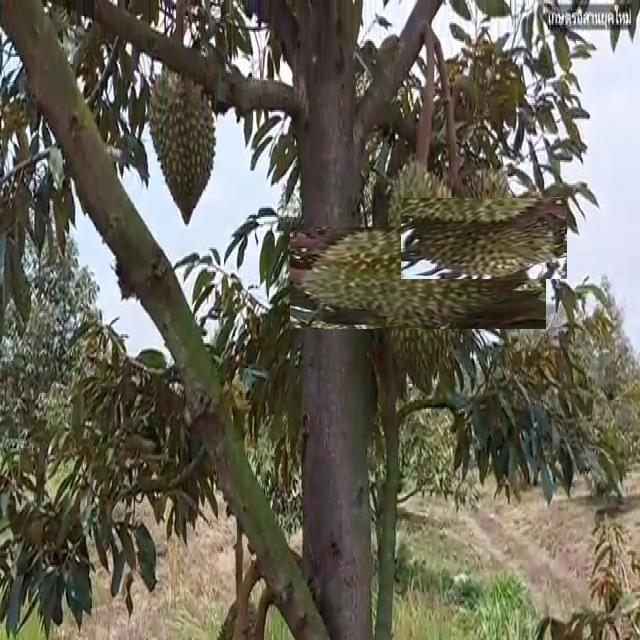durian: (329, 188, 508, 367), (422, 177, 546, 300), (144, 59, 218, 228)
